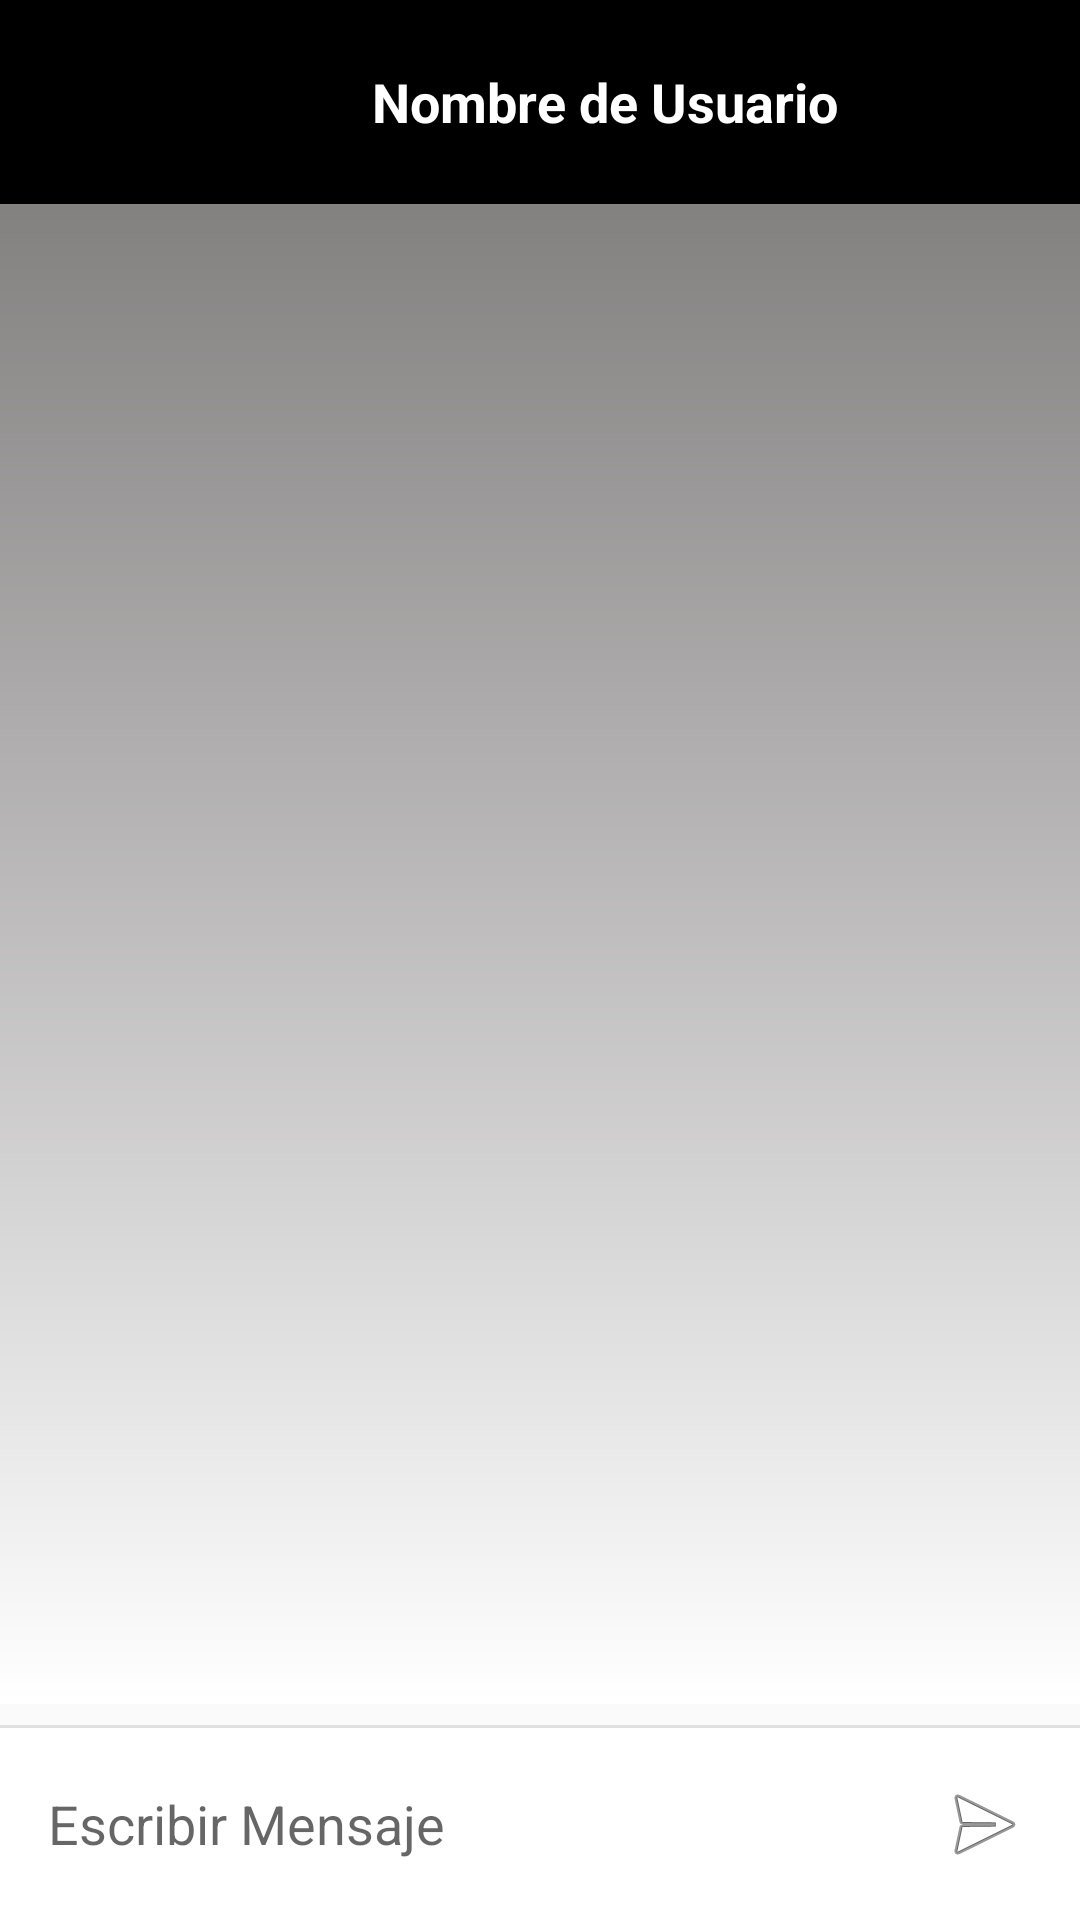

Where to tap for icons on this 1080x1920 app screen, as (x,y):
Enviar: (985,1824)
